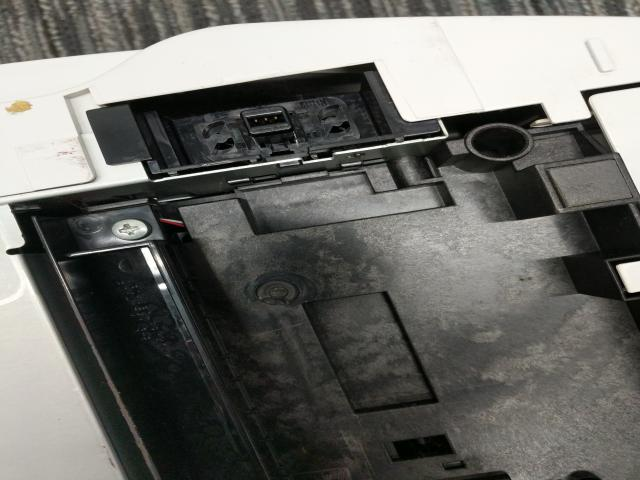CRS: (109, 219, 151, 241)
